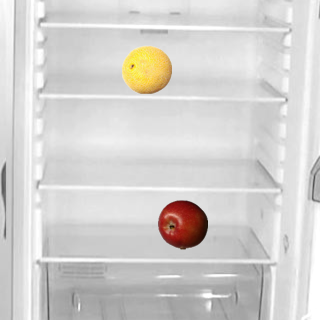Apple Braeburn: (157, 199, 207, 249)
Cantaloupe 1: (121, 44, 171, 94)
